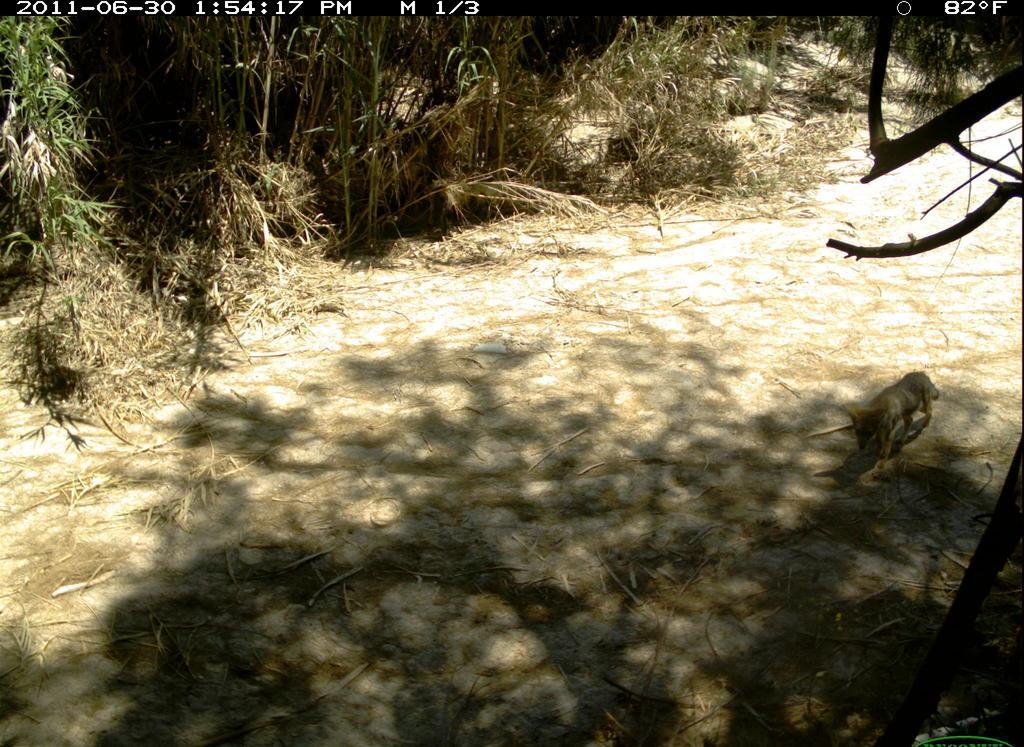coyote: (840, 368, 950, 468)
